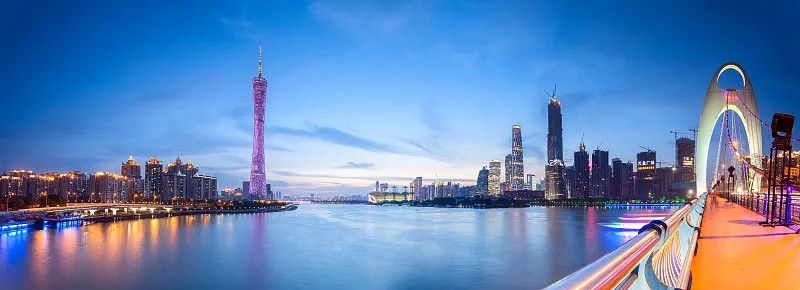Canton: (245, 47, 269, 200)
